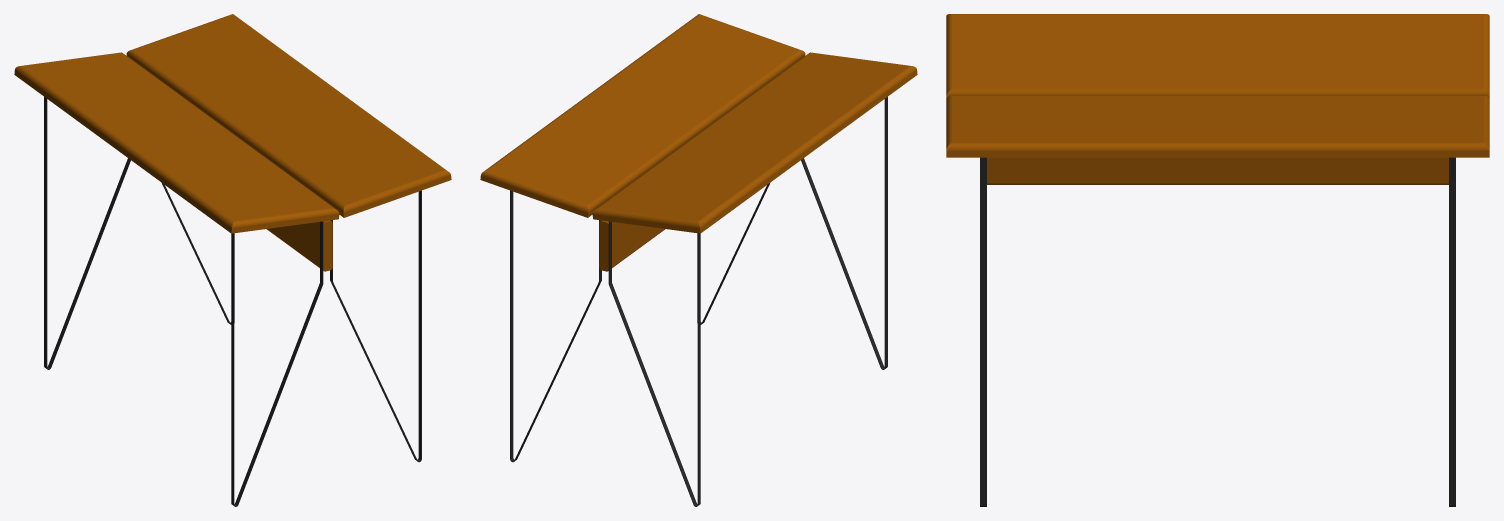
File: banco cria.obj
3 renders of one model, left to right at view 1: azimuth 30°, elevation 25°; view 2: azimuth 150°, elevation 25°; view 3: azimuth 270°, elevation 25°, orthographic. The views are drawn at different scales.
Size of the model in its own units: 0.4686 by 0.6039 by 0.8.
